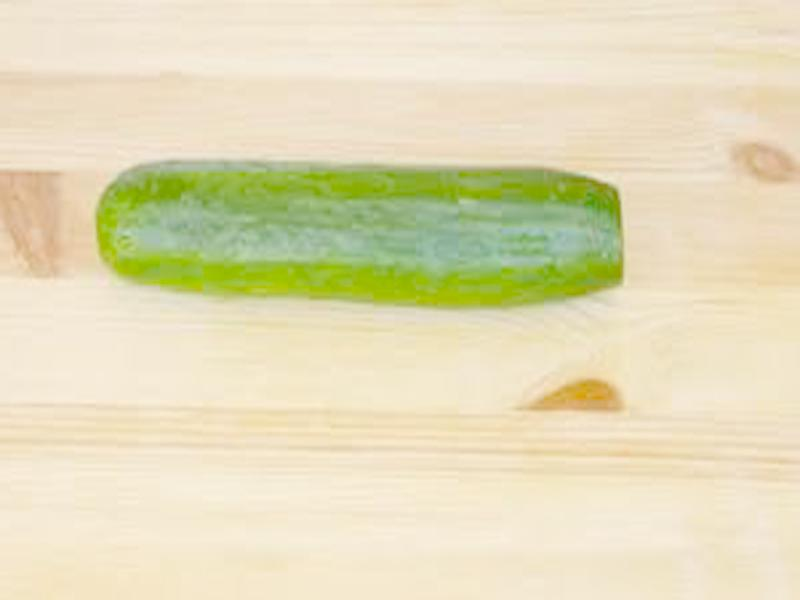Cucumber: (95, 161, 620, 304)
